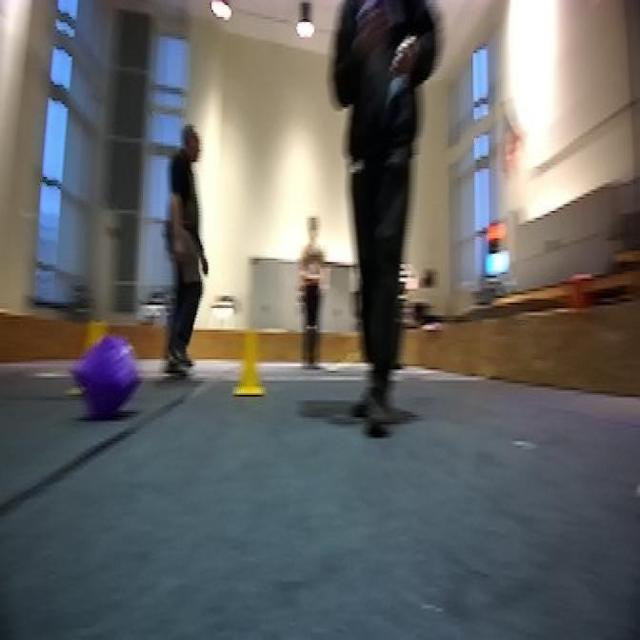frc_cone: (236, 325, 265, 398), (77, 303, 108, 351)
frc_cube: (76, 330, 134, 432)
